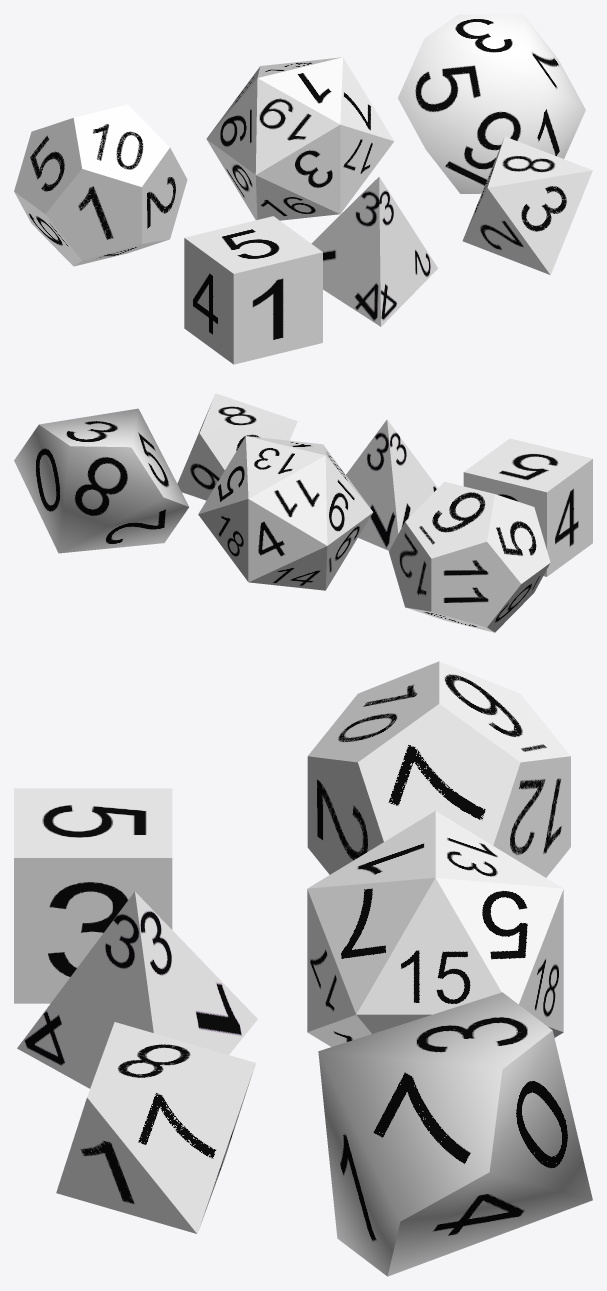
The model's file is Dice Set.obj.
The picture shows the model from 3 angles, top to bottom: view 1: azimuth 30°, elevation 25°; view 2: azimuth 150°, elevation 25°; view 3: azimuth 270°, elevation 25°; orthographic projection. The views are drawn at different scales.
Parts seen in each view (by area): view 1: Mesh, icosahedron:icosahedron, dodecahedron1:Mesh, pCube8, pPyramid3, pPyramid1; view 2: icosahedron:icosahedron, Mesh, dodecahedron1:Mesh, pCube8, pPyramid1, pPyramid3; view 3: Mesh, icosahedron:icosahedron, dodecahedron1:Mesh, pPyramid3, pCube8, pPyramid1.
Boxes of the visible parts, x1,y1,x2,y2 form: Mesh: (398, 14, 585, 193); icosahedron:icosahedron: (206, 57, 394, 220); dodecahedron1:Mesh: (14, 104, 187, 266); pCube8: (184, 216, 322, 364); pPyramid3: (462, 136, 592, 274); pPyramid1: (311, 177, 437, 326); icosahedron:icosahedron: (198, 436, 373, 590); Mesh: (14, 408, 188, 553); dodecahedron1:Mesh: (389, 481, 550, 632); pCube8: (463, 438, 592, 576); pPyramid1: (346, 419, 437, 550); pPyramid3: (177, 393, 297, 500); Mesh: (318, 992, 592, 1276); icosahedron:icosahedron: (307, 811, 563, 1046); dodecahedron1:Mesh: (307, 661, 570, 877); pPyramid3: (56, 1022, 255, 1233); pCube8: (14, 788, 172, 1003); pPyramid1: (17, 891, 257, 1088).
Bounding box in the file's own units: 12.38 × 3.42 × 7.12.
Materials: 6 (6 with a texture image).
